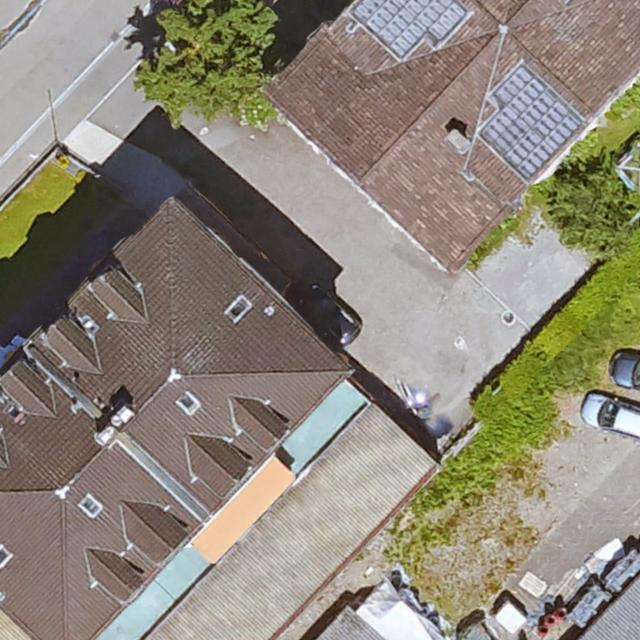tree: (142, 0, 283, 126), (548, 162, 640, 256)
